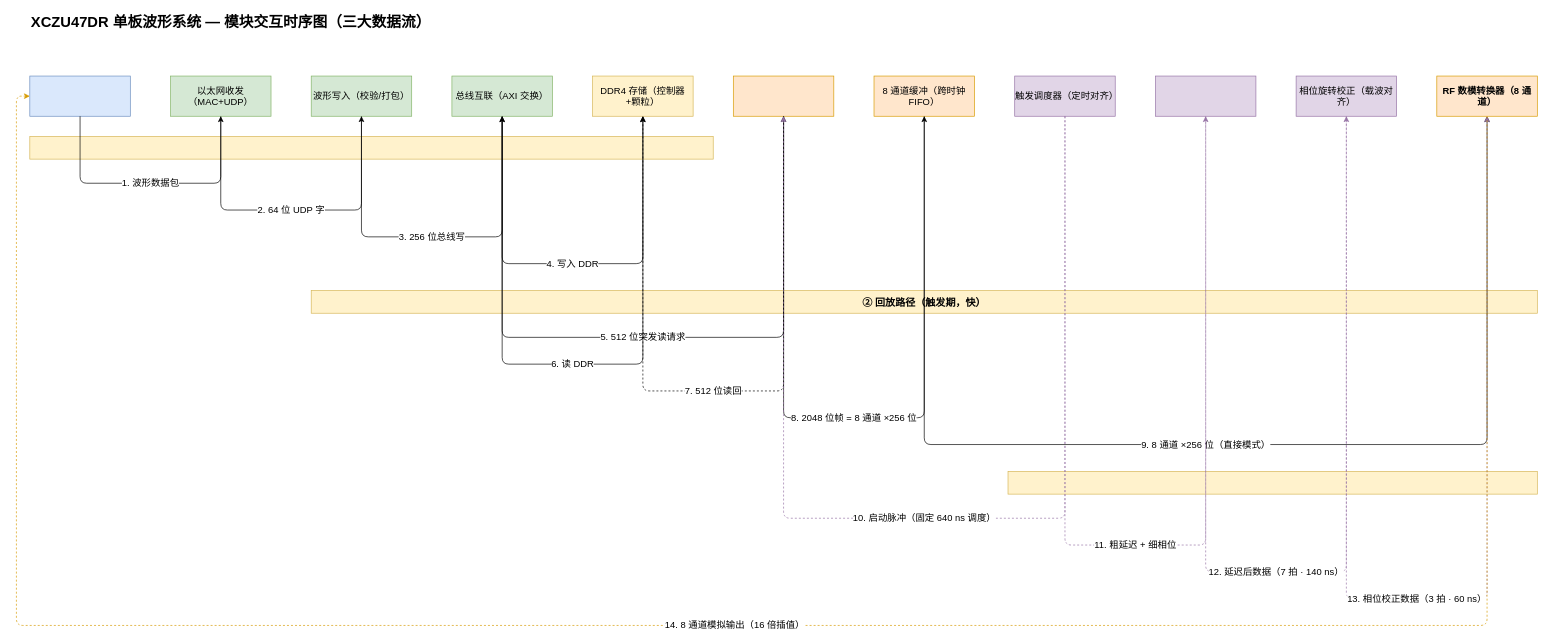
Image size: 1549x643. Some labels were removed from this diagram. Each missing label, with the box of its shape:
DDR 读取引擎（512 位读）: (733, 75, 834, 116)
① 上传路径（配置期，慢）: (29, 136, 713, 159)
③ 确定性触发补偿（旁路）: (1007, 471, 1537, 494)
上位机（100G 网络）: (29, 75, 130, 116)
分数延迟滤波（细调延迟）: (1155, 75, 1256, 116)
